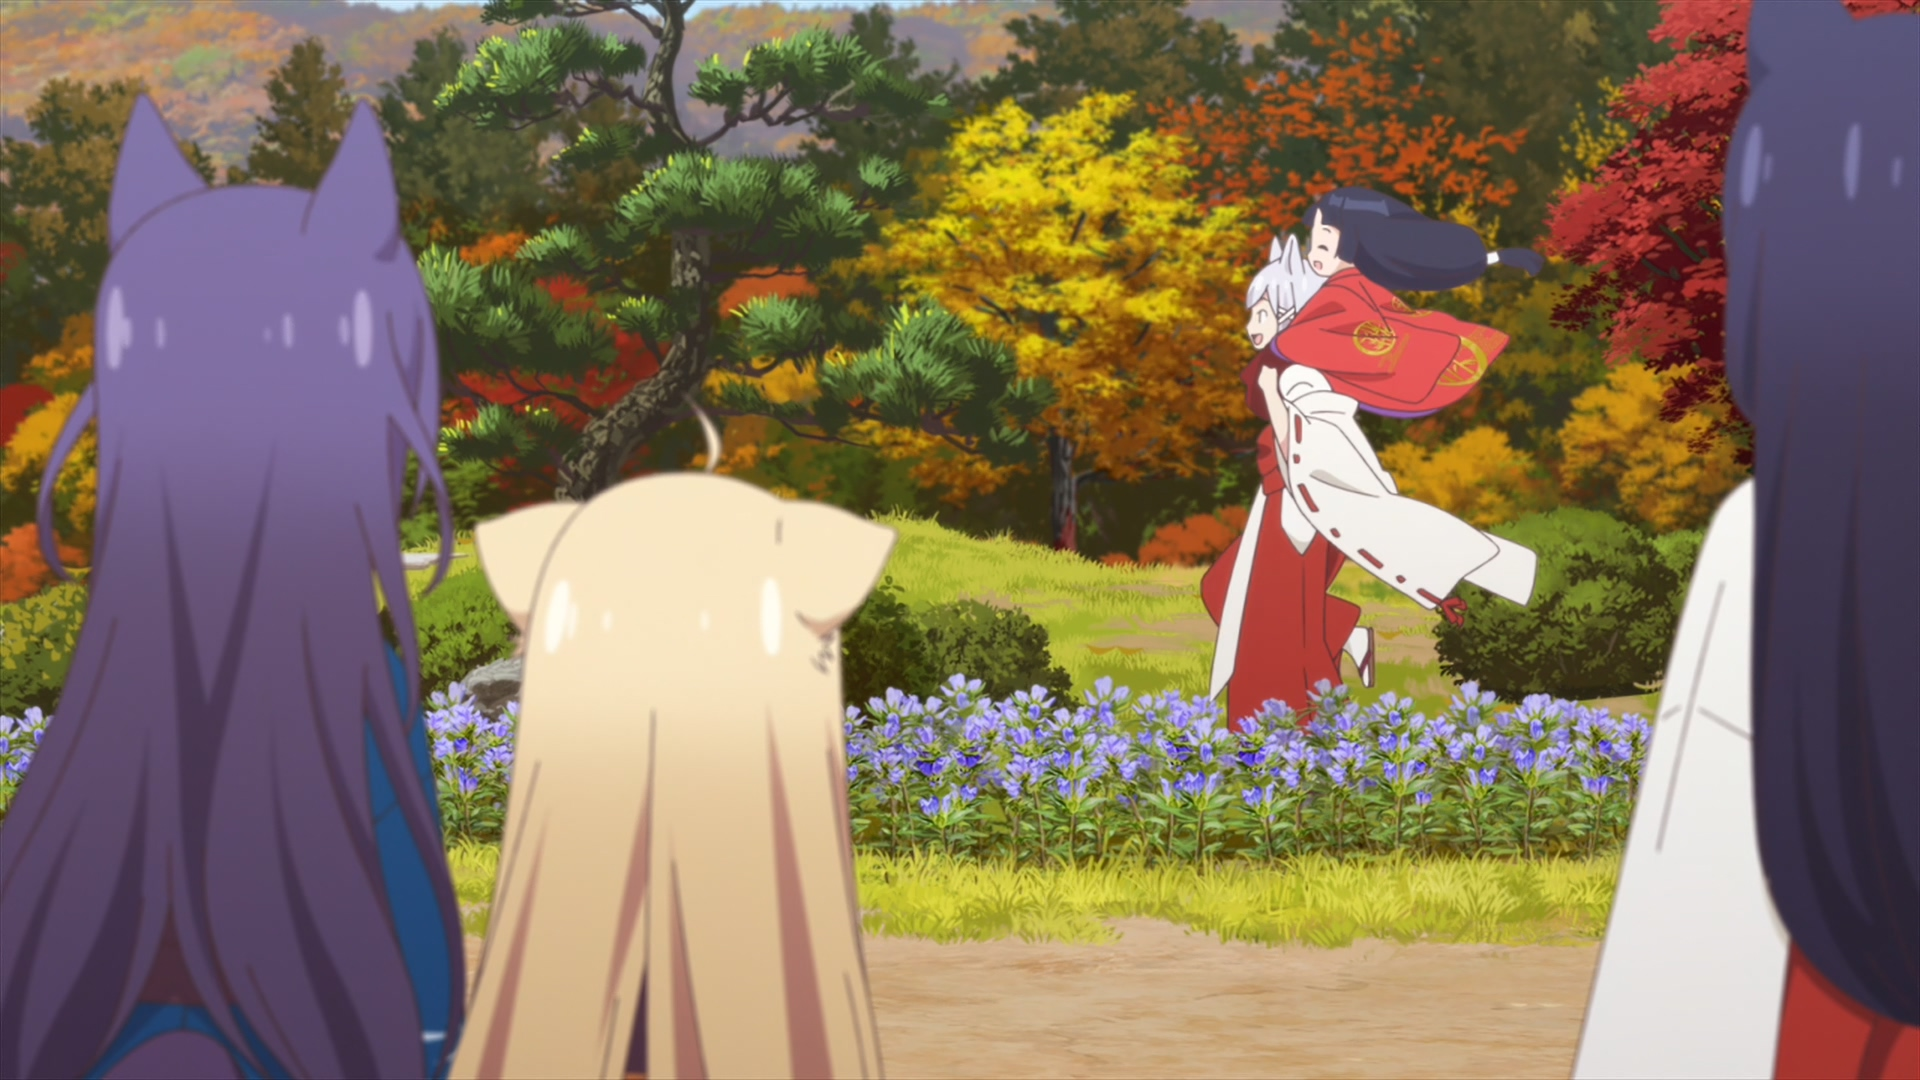其他: (1241, 185, 1539, 422)
柊: (1201, 235, 1534, 758)
柚: (451, 400, 897, 1080)
皋: (1, 91, 464, 1080)
菖: (1571, 1, 1920, 1080)
